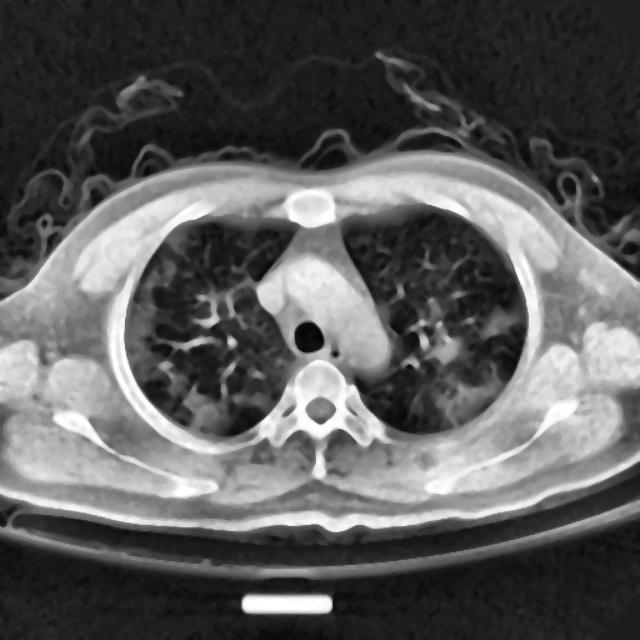covid: (1, 135, 638, 545)
